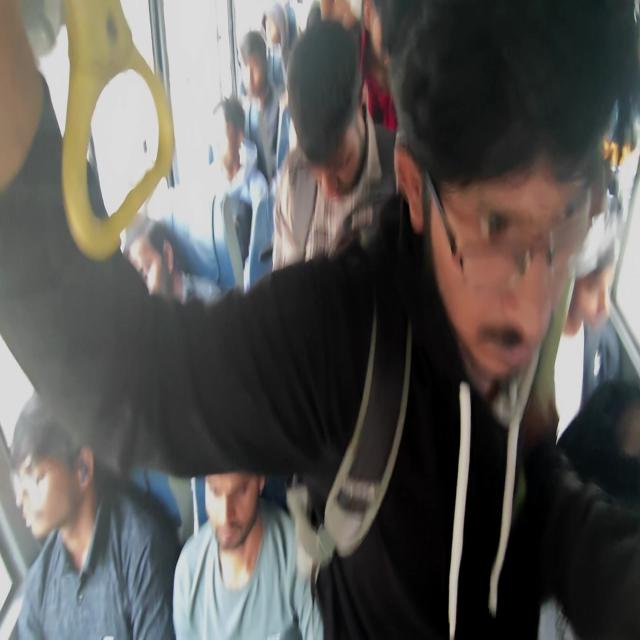person: (422, 51, 575, 380), (560, 138, 621, 351), (196, 412, 280, 558), (4, 399, 94, 529), (291, 38, 349, 159), (128, 237, 171, 345), (213, 97, 244, 179), (233, 39, 273, 91), (363, 0, 390, 75), (262, 9, 278, 39)
